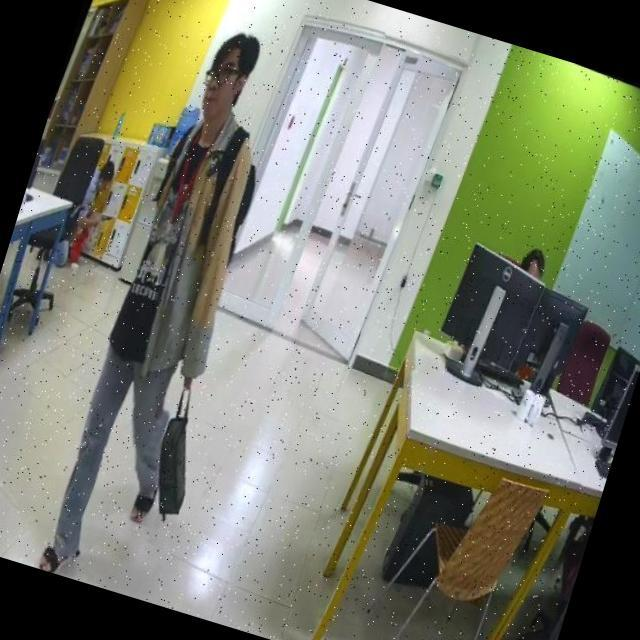person: (17, 10, 334, 608)
